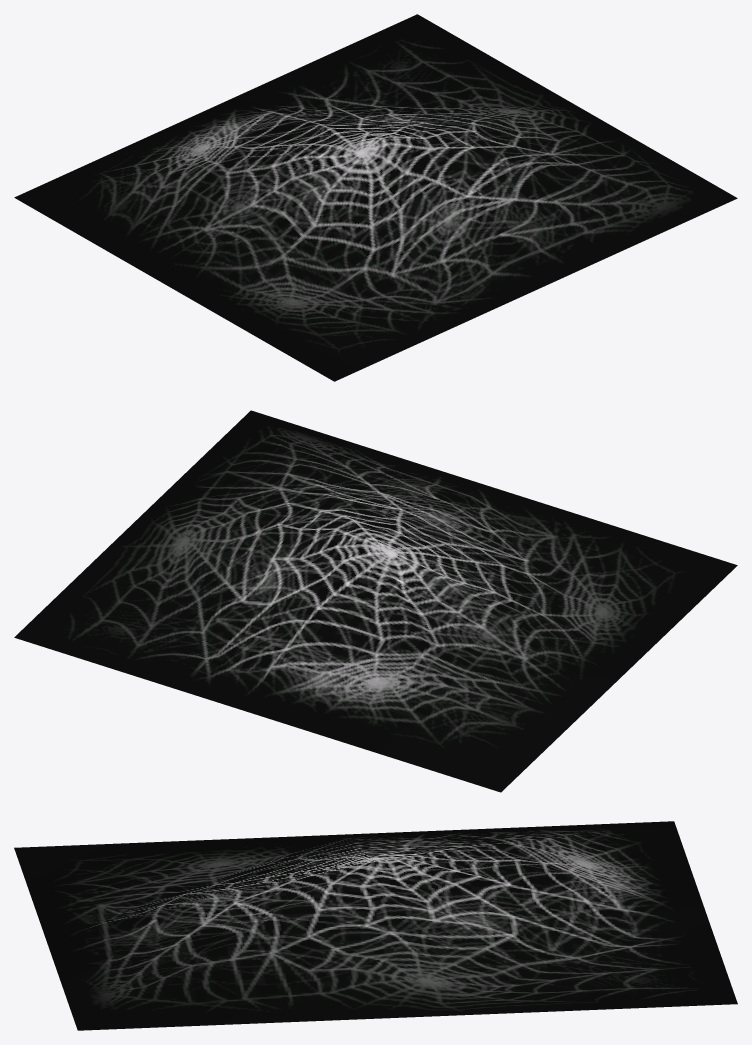
The model's file is MIRKWOOD_PLANE06.fbx.
3 views of the same model, one above another, from view 1: azimuth 30°, elevation 25°; view 2: azimuth 150°, elevation 25°; view 3: azimuth 270°, elevation 25° (orthographic). The views are drawn at different scales.
Parts seen in each view (by area): view 1: MIRKWOOD_PLANE06; view 2: MIRKWOOD_PLANE06; view 3: MIRKWOOD_PLANE06.
Boxes of the visible parts, box(x1,y1,x2,y2) form: MIRKWOOD_PLANE06: box(14, 14, 737, 381); MIRKWOOD_PLANE06: box(14, 410, 737, 792); MIRKWOOD_PLANE06: box(14, 821, 737, 1030).
Size of the model in its own units: 118332 by 20829 by 127232.
Materials: 1 (1 with a texture image).
